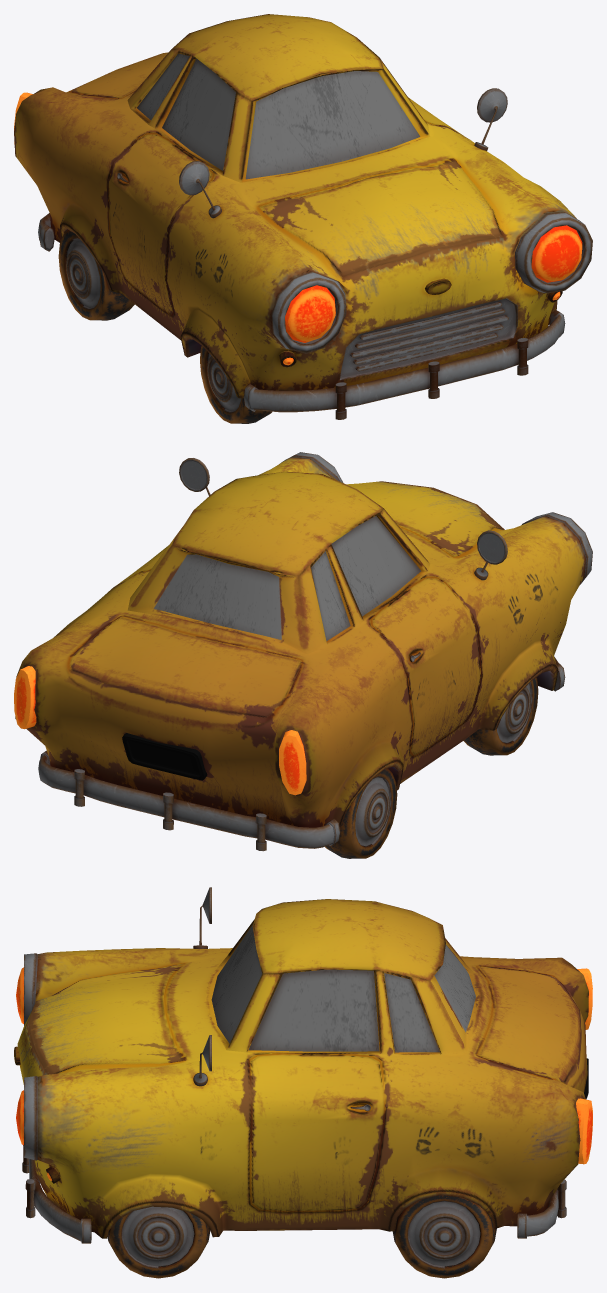
3 views of the same model, one above another, from view 1: azimuth 30°, elevation 25°; view 2: azimuth 150°, elevation 25°; view 3: azimuth 270°, elevation 25° (orthographic).
Parts seen in each view (by area): view 1: Thanxe_low, thanhchan_low, banhxe_low, thanhchangio_low, guong_low, thanhchan2_low; view 2: Thanxe_low, thanhchan_low, banhxe_low, denhau_low, biensoxe_low, guong_low, thanhchan2_low; view 3: Thanxe_low, banhxe_low, thanhchan_low, denhau_low, guong_low, thanhchan2_low.
Boxes of the visible parts, x1=… form: Thanxe_low: x1=14, y1=14, x2=592, y2=398; thanhchan_low: x1=38, y1=213, x2=565, y2=412; banhxe_low: x1=58, y1=230, x2=271, y2=423; thanhchangio_low: x1=350, y1=302, x2=508, y2=371; guong_low: x1=179, y1=88, x2=507, y2=218; thanhchan2_low: x1=335, y1=338, x2=528, y2=419; Thanxe_low: x1=15, y1=452, x2=592, y2=827; thanhchan_low: x1=38, y1=656, x2=565, y2=848; banhxe_low: x1=325, y1=677, x2=538, y2=858; denhau_low: x1=14, y1=666, x2=306, y2=795; biensoxe_low: x1=122, y1=733, x2=207, y2=780; guong_low: x1=179, y1=458, x2=507, y2=580; thanhchan2_low: x1=74, y1=769, x2=266, y2=851; Thanxe_low: x1=16, y1=899, x2=588, y2=1238; banhxe_low: x1=107, y1=1195, x2=496, y2=1278; thanhchan_low: x1=28, y1=1159, x2=558, y2=1243; denhau_low: x1=46, y1=968, x2=592, y2=1183; guong_low: x1=193, y1=887, x2=211, y2=1086; thanhchan2_low: x1=22, y1=1145, x2=566, y2=1218.
Bounding box in the file's own units: 2.11 × 1.69 × 3.02.
Materials: 1 (1 with a texture image).
